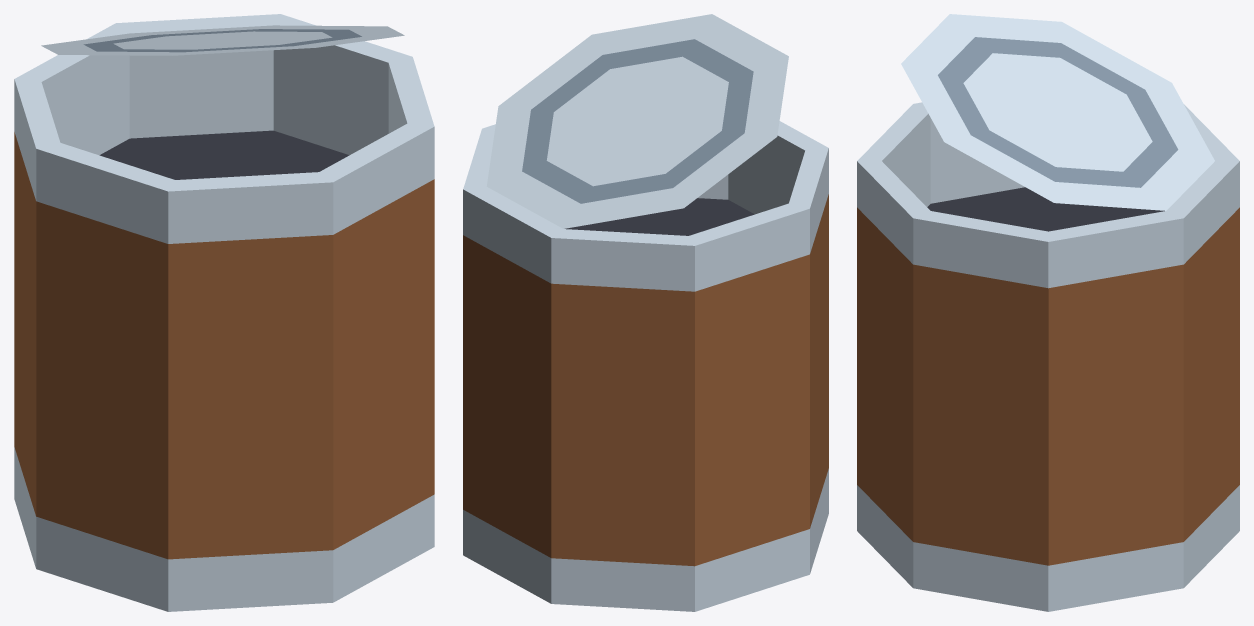
The model's file is Food Can.fbx.
3 views of the same model, side by side, from view 1: azimuth 30°, elevation 25°; view 2: azimuth 150°, elevation 25°; view 3: azimuth 270°, elevation 25° (orthographic). The views are drawn at different scales.
Parts seen in each view (by area): view 1: mergedBlocks; view 2: mergedBlocks; view 3: mergedBlocks.
Boxes of the visible parts, box(x1,y1,x2,y2) form: mergedBlocks: box(14, 14, 434, 611); mergedBlocks: box(463, 14, 828, 611); mergedBlocks: box(857, 14, 1239, 611).
Bounding box in the file's own units: 3 × 4.07 × 3.
